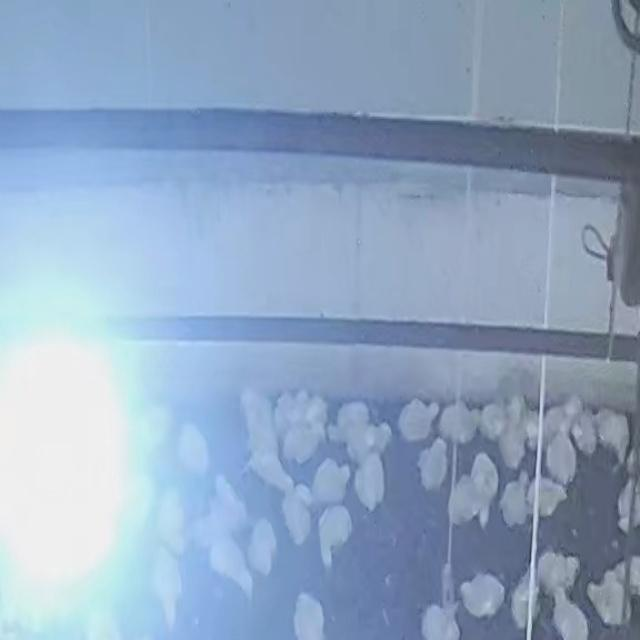chicken: (206, 538, 261, 598), (308, 502, 355, 571), (537, 434, 587, 496), (241, 436, 293, 494), (150, 551, 194, 617), (460, 571, 517, 620), (593, 568, 635, 631), (284, 589, 333, 640), (418, 597, 473, 640), (247, 521, 284, 582), (309, 462, 358, 508), (600, 410, 637, 470), (534, 555, 582, 600), (357, 455, 393, 514), (349, 425, 397, 469), (526, 474, 568, 519), (555, 596, 597, 640), (401, 397, 442, 442), (512, 578, 552, 624), (284, 484, 312, 549), (155, 493, 186, 549), (507, 480, 537, 537), (416, 444, 452, 490), (440, 402, 482, 441), (468, 452, 503, 498), (190, 510, 228, 550), (576, 410, 608, 457), (446, 482, 486, 519), (611, 473, 640, 524), (220, 486, 247, 538), (476, 403, 510, 443), (175, 428, 201, 477), (249, 388, 275, 436), (286, 426, 322, 460), (613, 544, 640, 588), (279, 391, 305, 436), (505, 423, 530, 469), (143, 407, 171, 447), (560, 387, 587, 427), (339, 406, 364, 448), (532, 398, 554, 442), (307, 395, 329, 432), (551, 404, 571, 442), (291, 390, 314, 422), (506, 402, 534, 425), (632, 459, 640, 486)
